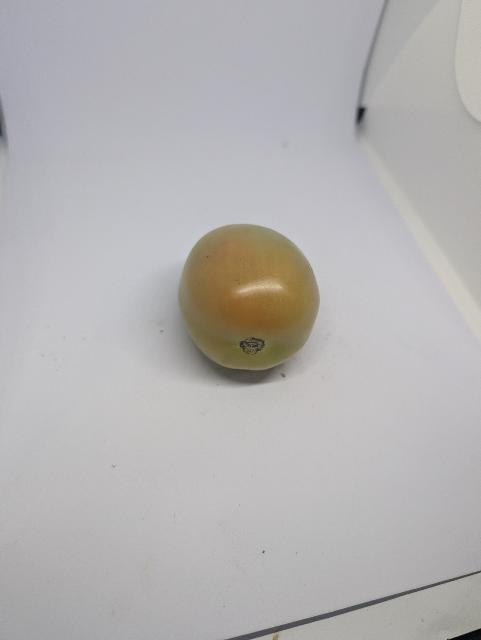breaker: (179, 225, 320, 370)
